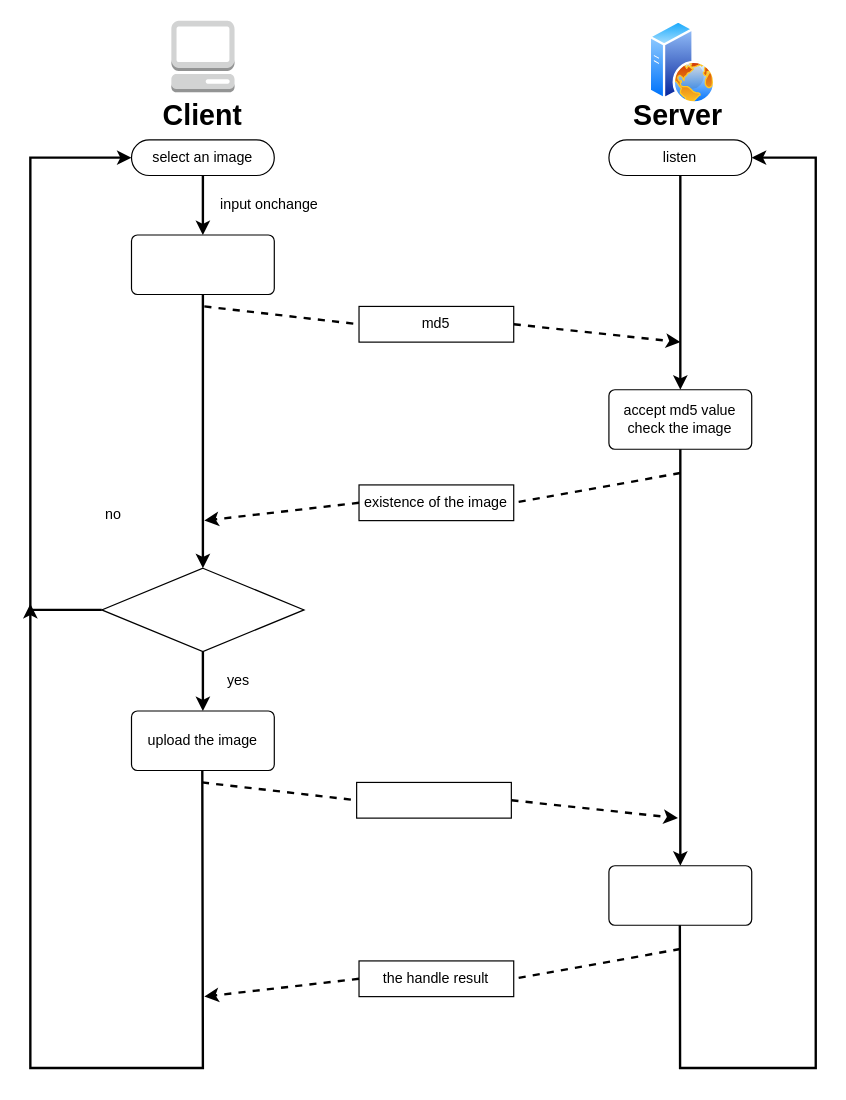
This 846x1100 diagram has some shape labels left out. The shapes that lost their labels are listed below. From the top down, each one's centre as x and y in pixels, then its label:
(202,264): get upload image calculate md5 value
(202,609): according to result upload image or not
(433,799): md5, image
(680,895): accept the image store the image
